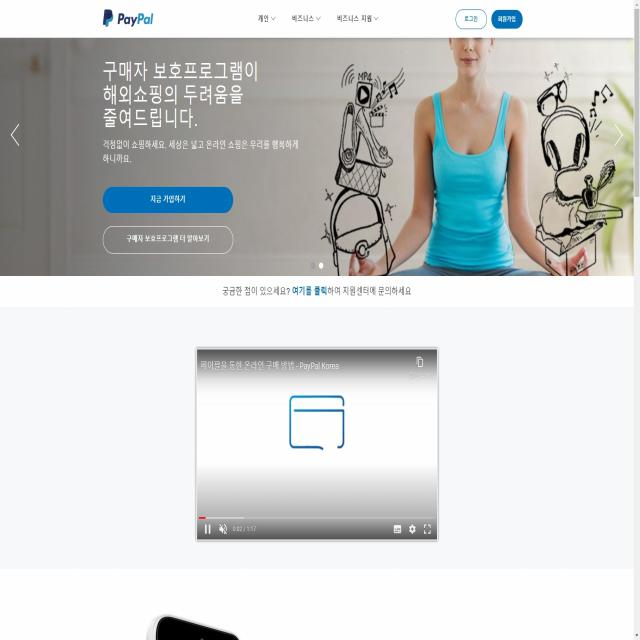control-bar: (197, 513, 439, 540)
menu-bar: (249, 2, 529, 35)
